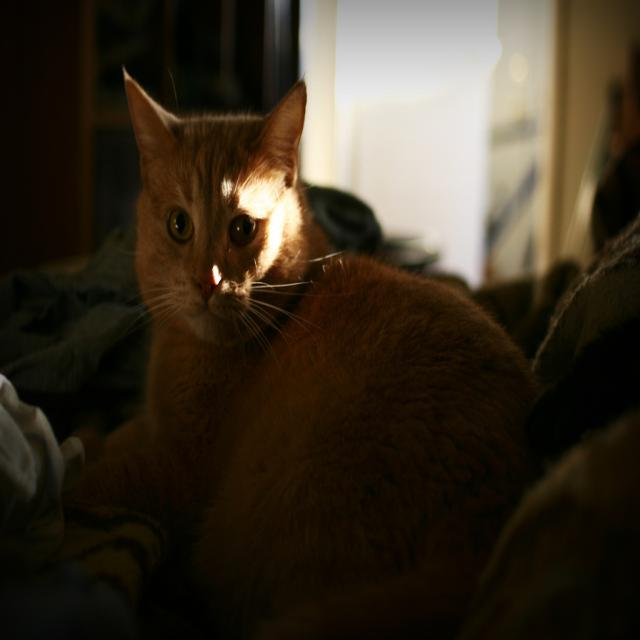Cat: (96, 78, 529, 640)
